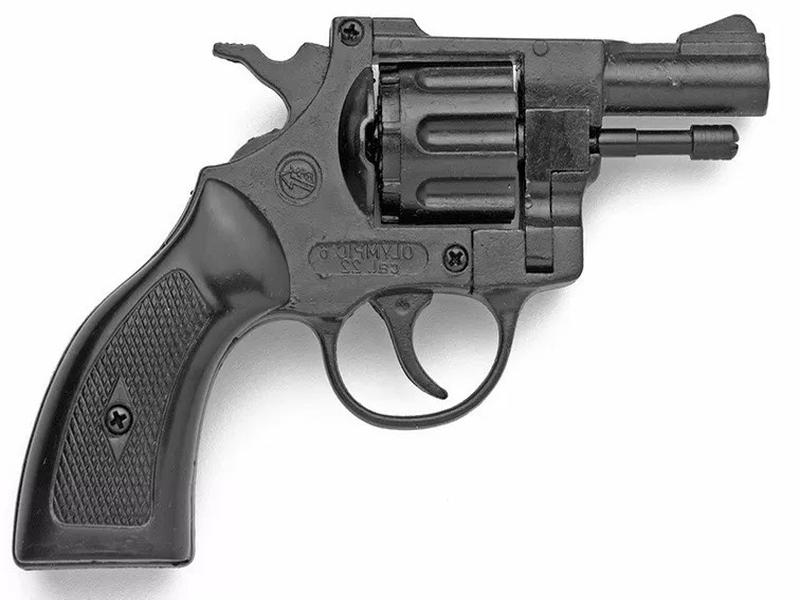Revolver: (106, 23, 774, 433)
